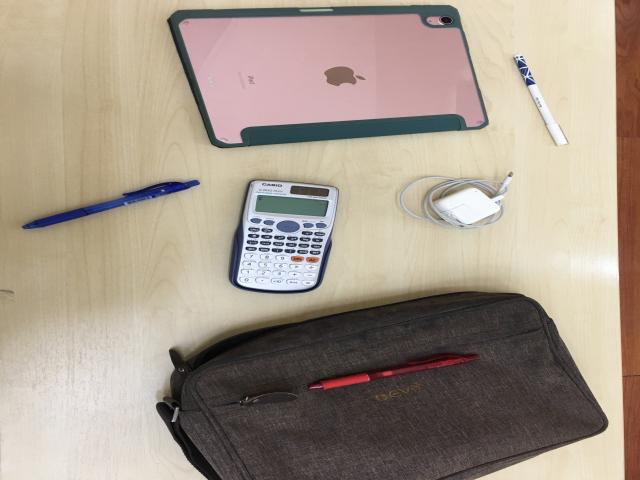Pen: (22, 180, 201, 232), (305, 353, 481, 391), (514, 54, 571, 146)
wire: (397, 174, 513, 230)
